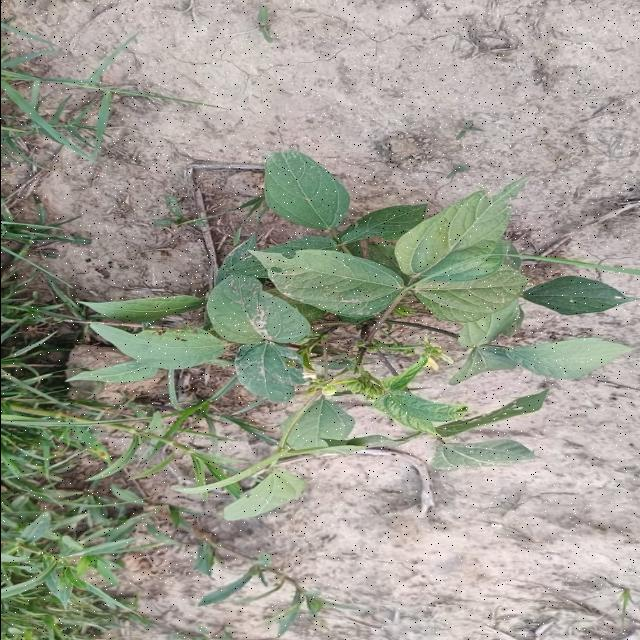plant: (74, 150, 634, 520)
